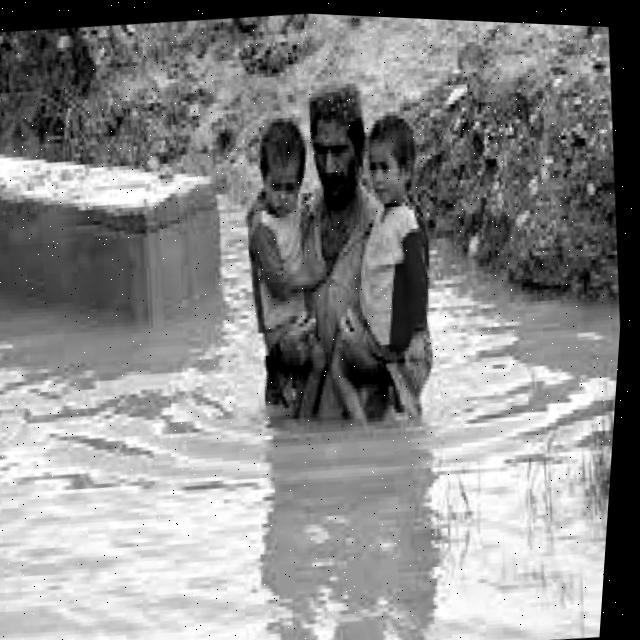civilian: (316, 105, 478, 425), (271, 65, 408, 427), (226, 115, 349, 412)
